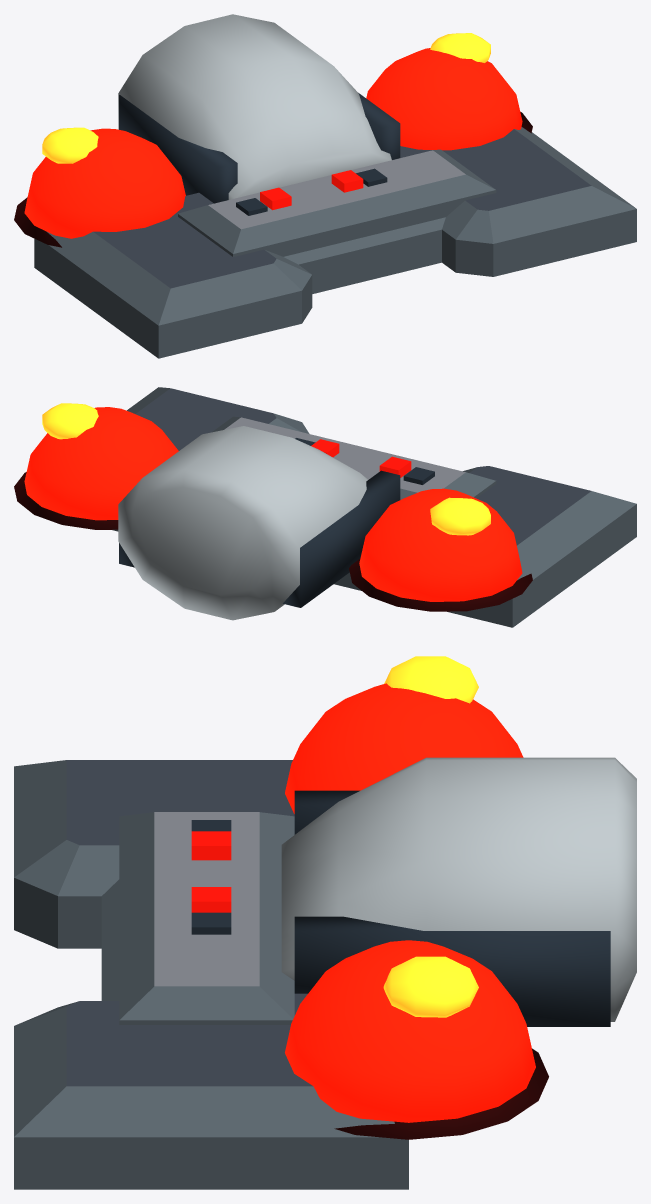
Rendered from newshv-8.glb.
3 renders of one model, top to bottom at view 1: azimuth 30°, elevation 25°; view 2: azimuth 150°, elevation 25°; view 3: azimuth 270°, elevation 25°, orthographic. The views are drawn at different scales.
Visible parts, largest first — view 1: newshv-8; view 2: newshv-8; view 3: newshv-8.
Boxes of the visible parts, x1,y1,x2,y2 form: newshv-8: (14,14,636,358); newshv-8: (14,387,636,627); newshv-8: (14,656,636,1189).
Bounding box in the file's own units: 1.73 × 0.4718 × 1.18.
